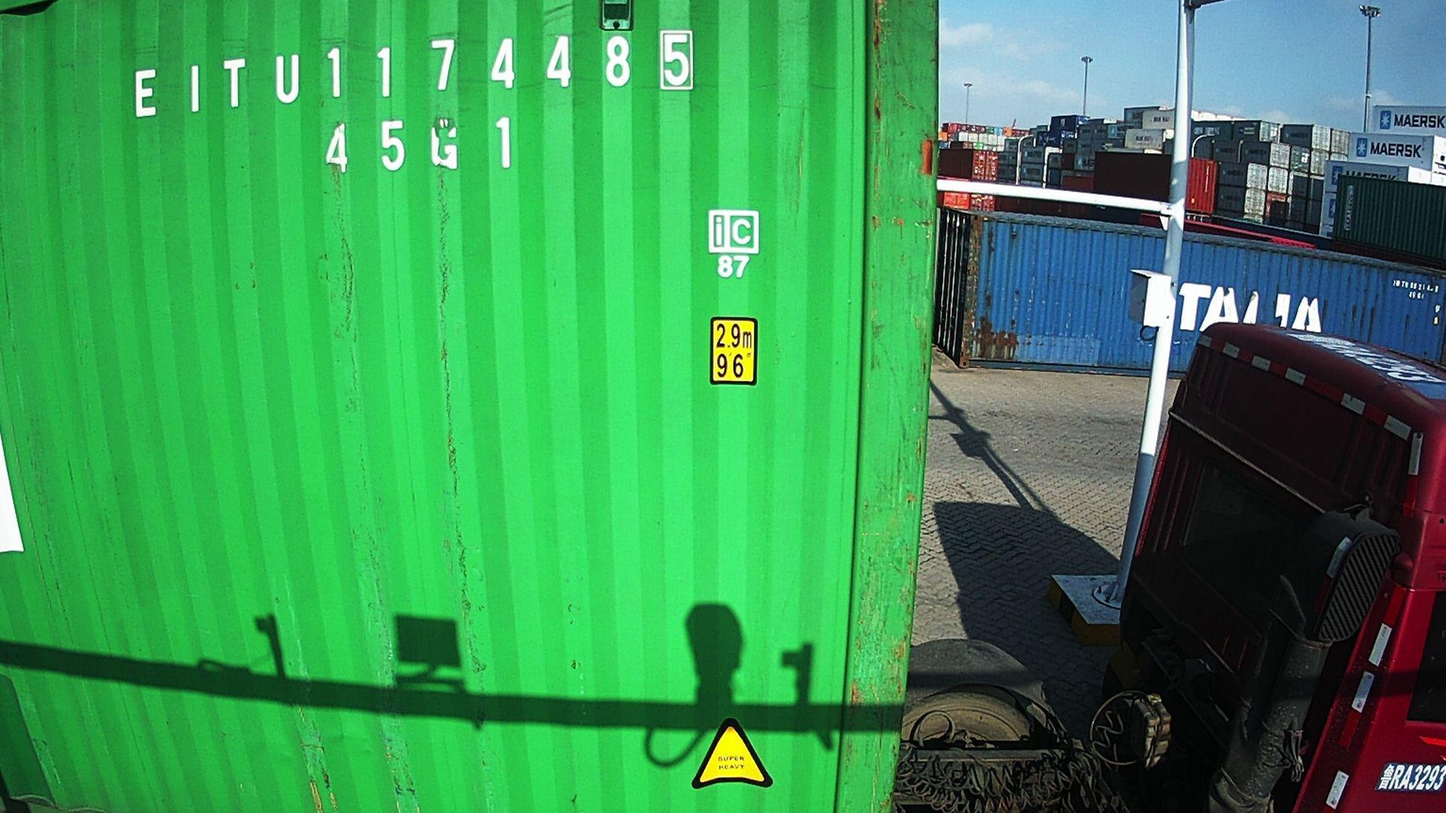container-numbers: (129, 20, 702, 121), (319, 111, 521, 178)
